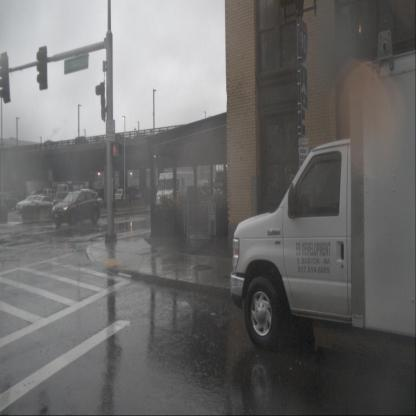vehicle-car: (51, 189, 100, 228), (155, 172, 195, 210), (16, 195, 49, 214), (34, 194, 58, 216), (0, 192, 19, 211), (43, 188, 62, 204), (116, 188, 132, 203), (74, 136, 90, 147)
vehicle-truck: (230, 52, 416, 354), (56, 182, 89, 204)
